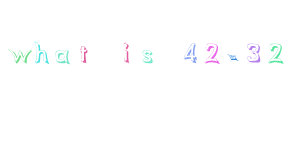-: (226, 52, 240, 64)
2: (203, 41, 221, 64), (268, 41, 285, 64)
3: (244, 41, 263, 64)
4: (182, 40, 198, 64)
a: (53, 48, 70, 64)
h: (34, 41, 49, 64)
i: (120, 40, 132, 63)
s: (140, 47, 154, 64)
t: (77, 44, 90, 64)
w: (7, 47, 32, 65)
